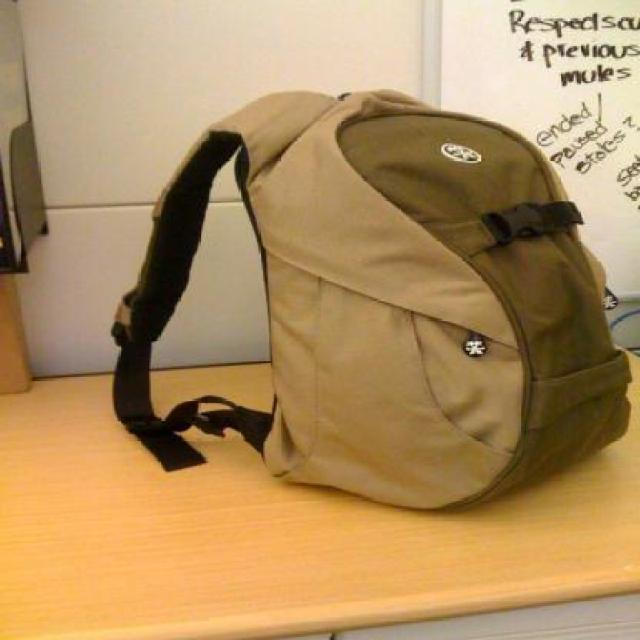backpack: (221, 83, 637, 519)
